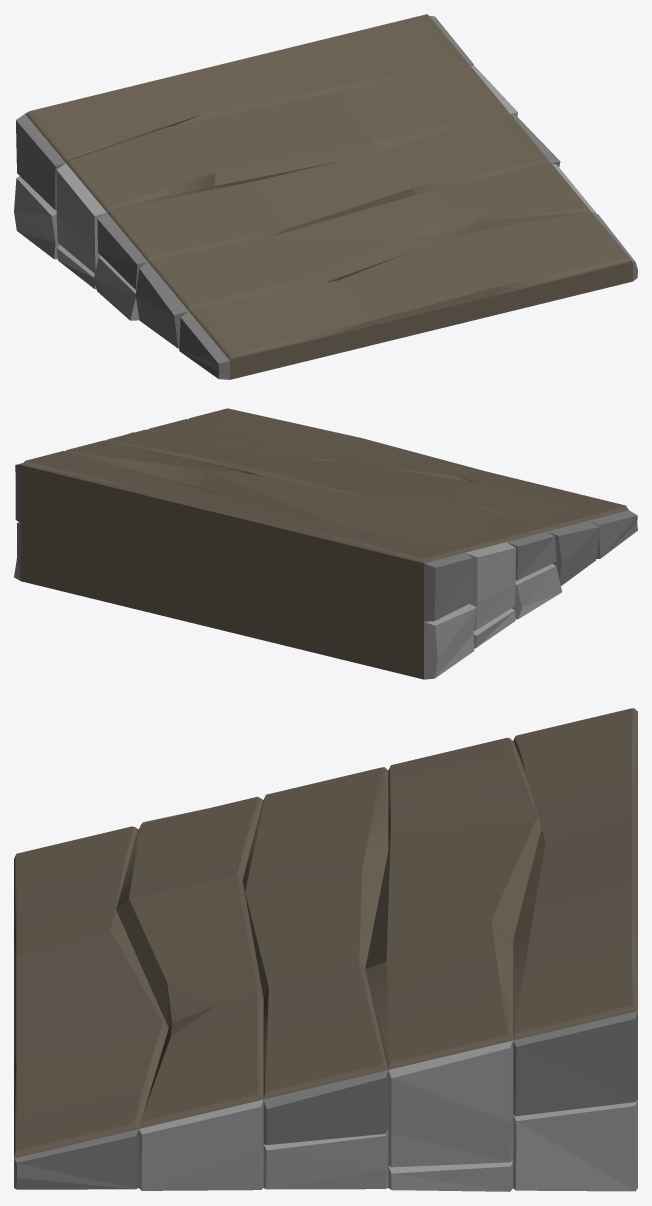
Rendered from _STAIRS_05_1.fbx.
3 renders of one model, top to bottom at view 1: azimuth 30°, elevation 25°; view 2: azimuth 150°, elevation 25°; view 3: azimuth 270°, elevation 25°, orthographic. The views are drawn at different scales.
Visible parts, largest first — view 1: STAIRS_05_1; view 2: STAIRS_05_1; view 3: STAIRS_05_1.
Boxes of the visible parts, x1,y1,x2,y2 form: STAIRS_05_1: (14,14,637,379); STAIRS_05_1: (14,408,637,679); STAIRS_05_1: (14,708,637,1191).
Bounding box in the file's own units: 194 × 51.46 × 160.
